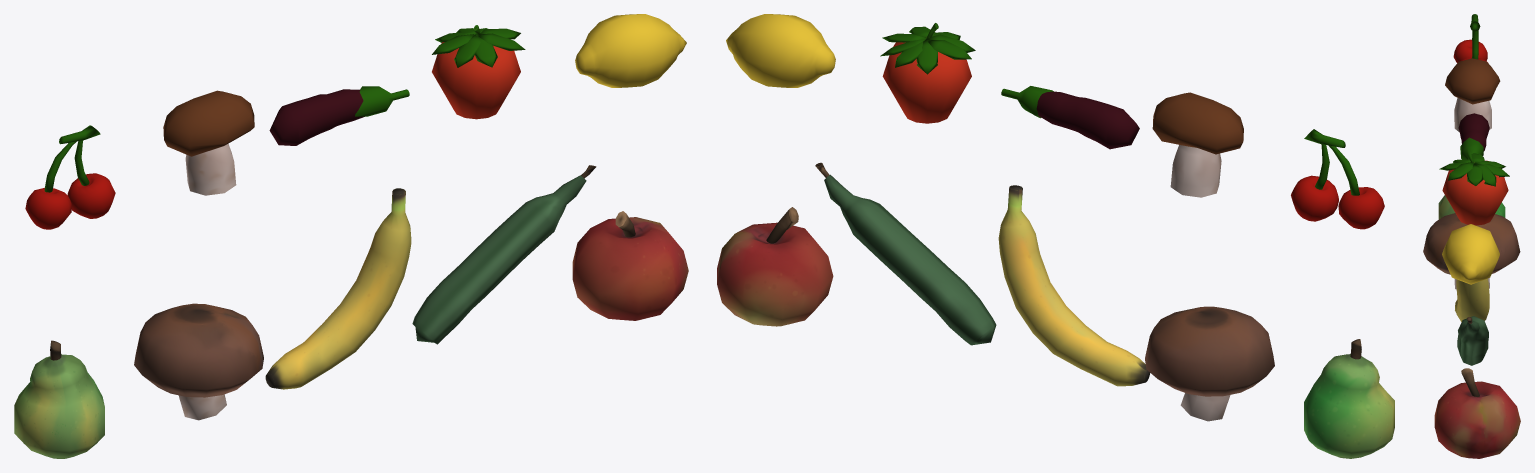
3 renders of one model, left to right at view 1: azimuth 30°, elevation 25°; view 2: azimuth 150°, elevation 25°; view 3: azimuth 270°, elevation 25°, orthographic. The views are drawn at different scales.
Parts seen in each view (by area): view 1: Sphere.003, Sphere.002, Banana, Cylinder.006, Cylinder.003, Zitrone, Sphere.004, Sphere, Cylinder.013, Sphere.001, Cylinder.012, Cylinder.001 (+2 smaller); view 2: Sphere.002, Sphere.003, Banana, Cylinder.006, Cylinder.003, Zitrone, Sphere, Sphere.004, Cylinder.013, Sphere.001, Cylinder.012, Cylinder.001 (+2 smaller); view 3: Sphere.002, Zitrone, Sphere.003, Sphere, Sphere.004, Cylinder.006, Banana, Cylinder.013, Cylinder.012, Sphere.001, Cylinder.003, Cylinder (+7 smaller).
Part boxes in pixels (x1,y1,x2,y2): Sphere.003: (134, 303, 263, 397); Sphere.002: (572, 217, 688, 320); Banana: (265, 188, 411, 389); Cylinder.006: (412, 175, 586, 344); Cylinder.003: (14, 354, 104, 458); Zitrone: (575, 14, 686, 87); Sphere.004: (163, 90, 254, 156); Sphere: (432, 42, 520, 119); Cylinder.013: (269, 89, 364, 145); Sphere.001: (25, 173, 115, 229); Cylinder.012: (185, 144, 236, 195); Cylinder.001: (44, 125, 100, 192); Sphere.002: (717, 222, 833, 326); Sphere.003: (1145, 306, 1274, 396); Banana: (998, 185, 1149, 386); Cylinder.006: (824, 174, 996, 345); Cylinder.003: (1304, 354, 1394, 458); Zitrone: (726, 14, 835, 87); Sphere: (882, 42, 971, 123); Sphere.004: (1152, 92, 1243, 154); Cylinder.013: (1036, 91, 1139, 149); Sphere.001: (1291, 175, 1384, 229); Cylinder.012: (1170, 145, 1221, 197); Cylinder.001: (1304, 129, 1359, 195); Sphere.002: (1434, 381, 1520, 458); Zitrone: (1442, 224, 1499, 284); Sphere.003: (1423, 213, 1520, 274); Sphere: (1442, 160, 1508, 225); Sphere.004: (1445, 58, 1500, 104); Cylinder.006: (1457, 316, 1488, 365); Banana: (1455, 278, 1489, 321); Cylinder.013: (1458, 113, 1489, 151); Cylinder.012: (1454, 98, 1491, 132); Sphere.001: (1453, 39, 1487, 63); Cylinder.003: (1438, 195, 1505, 219); Cylinder: (1460, 137, 1483, 159).
Size of the model in its own units: 69.49 by 32.82 by 11.95.
Materials: 13 (7 with a texture image).
